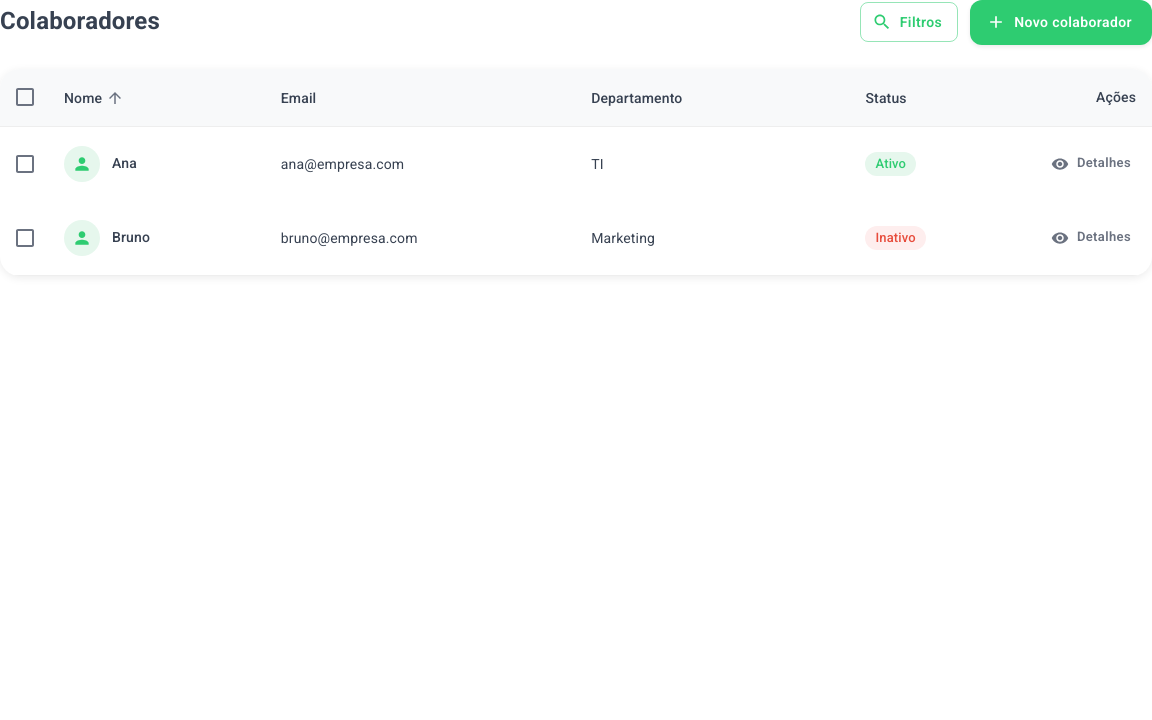
ColaboradoresPage (widget) › drawer detalhes e edição › abre drawer em modo detalhes (leitura)
The width and height of the screenshot is (1152, 720).
Expected: the text "Ana" is shown, [112,153,137,174]
Click the button "Detalhes" in the row of "ana@empresa.com". click: (1092, 164)
box: [1048,148,1136,179]
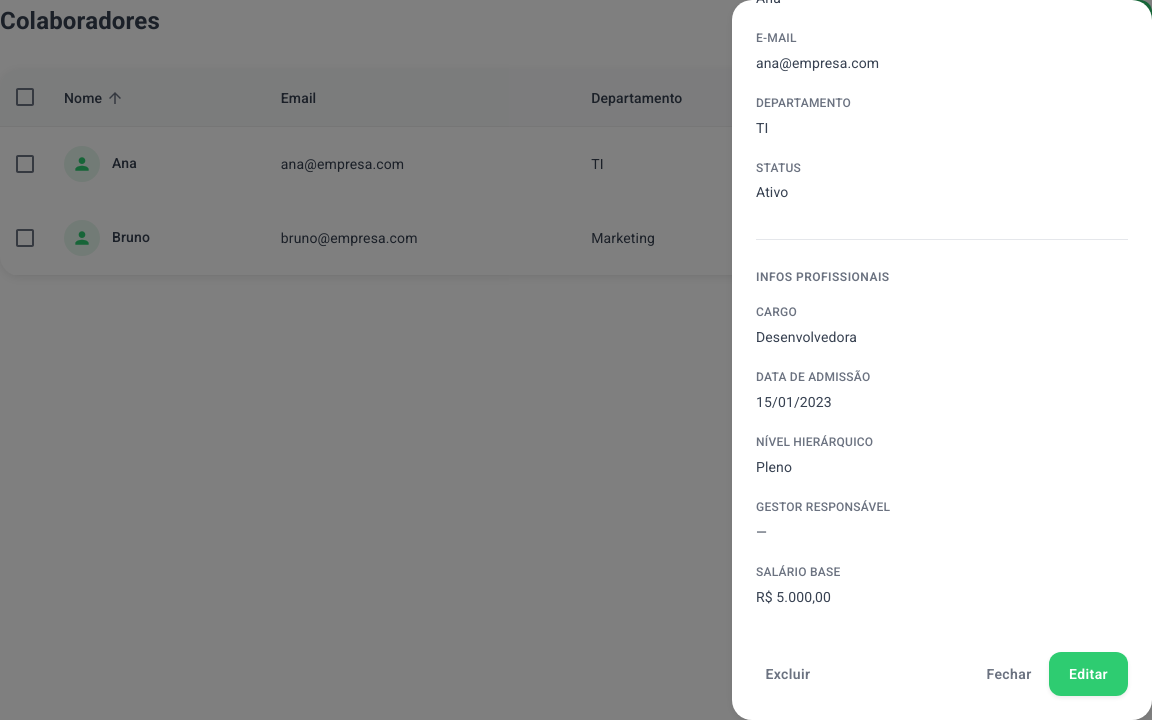
Now the heading "Infos profissionais" is shown, box [756,270,890,284]
Now the text "ana@empresa.com" is shown, box [756,55,879,71]
Now the button "Editar" is shown, box [1049,652,1128,696]
